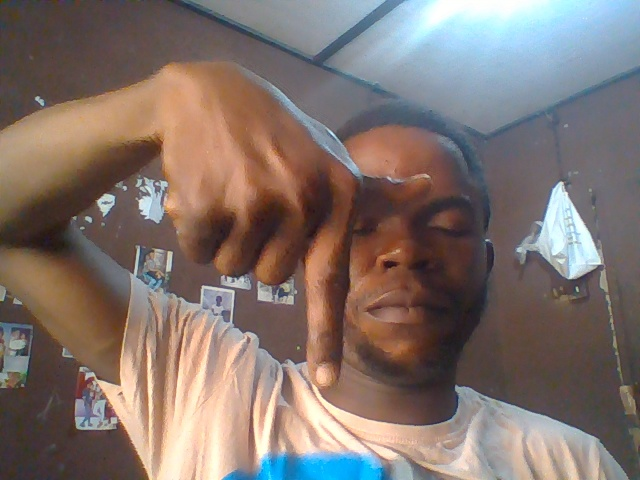Down: (146, 48, 438, 392)
